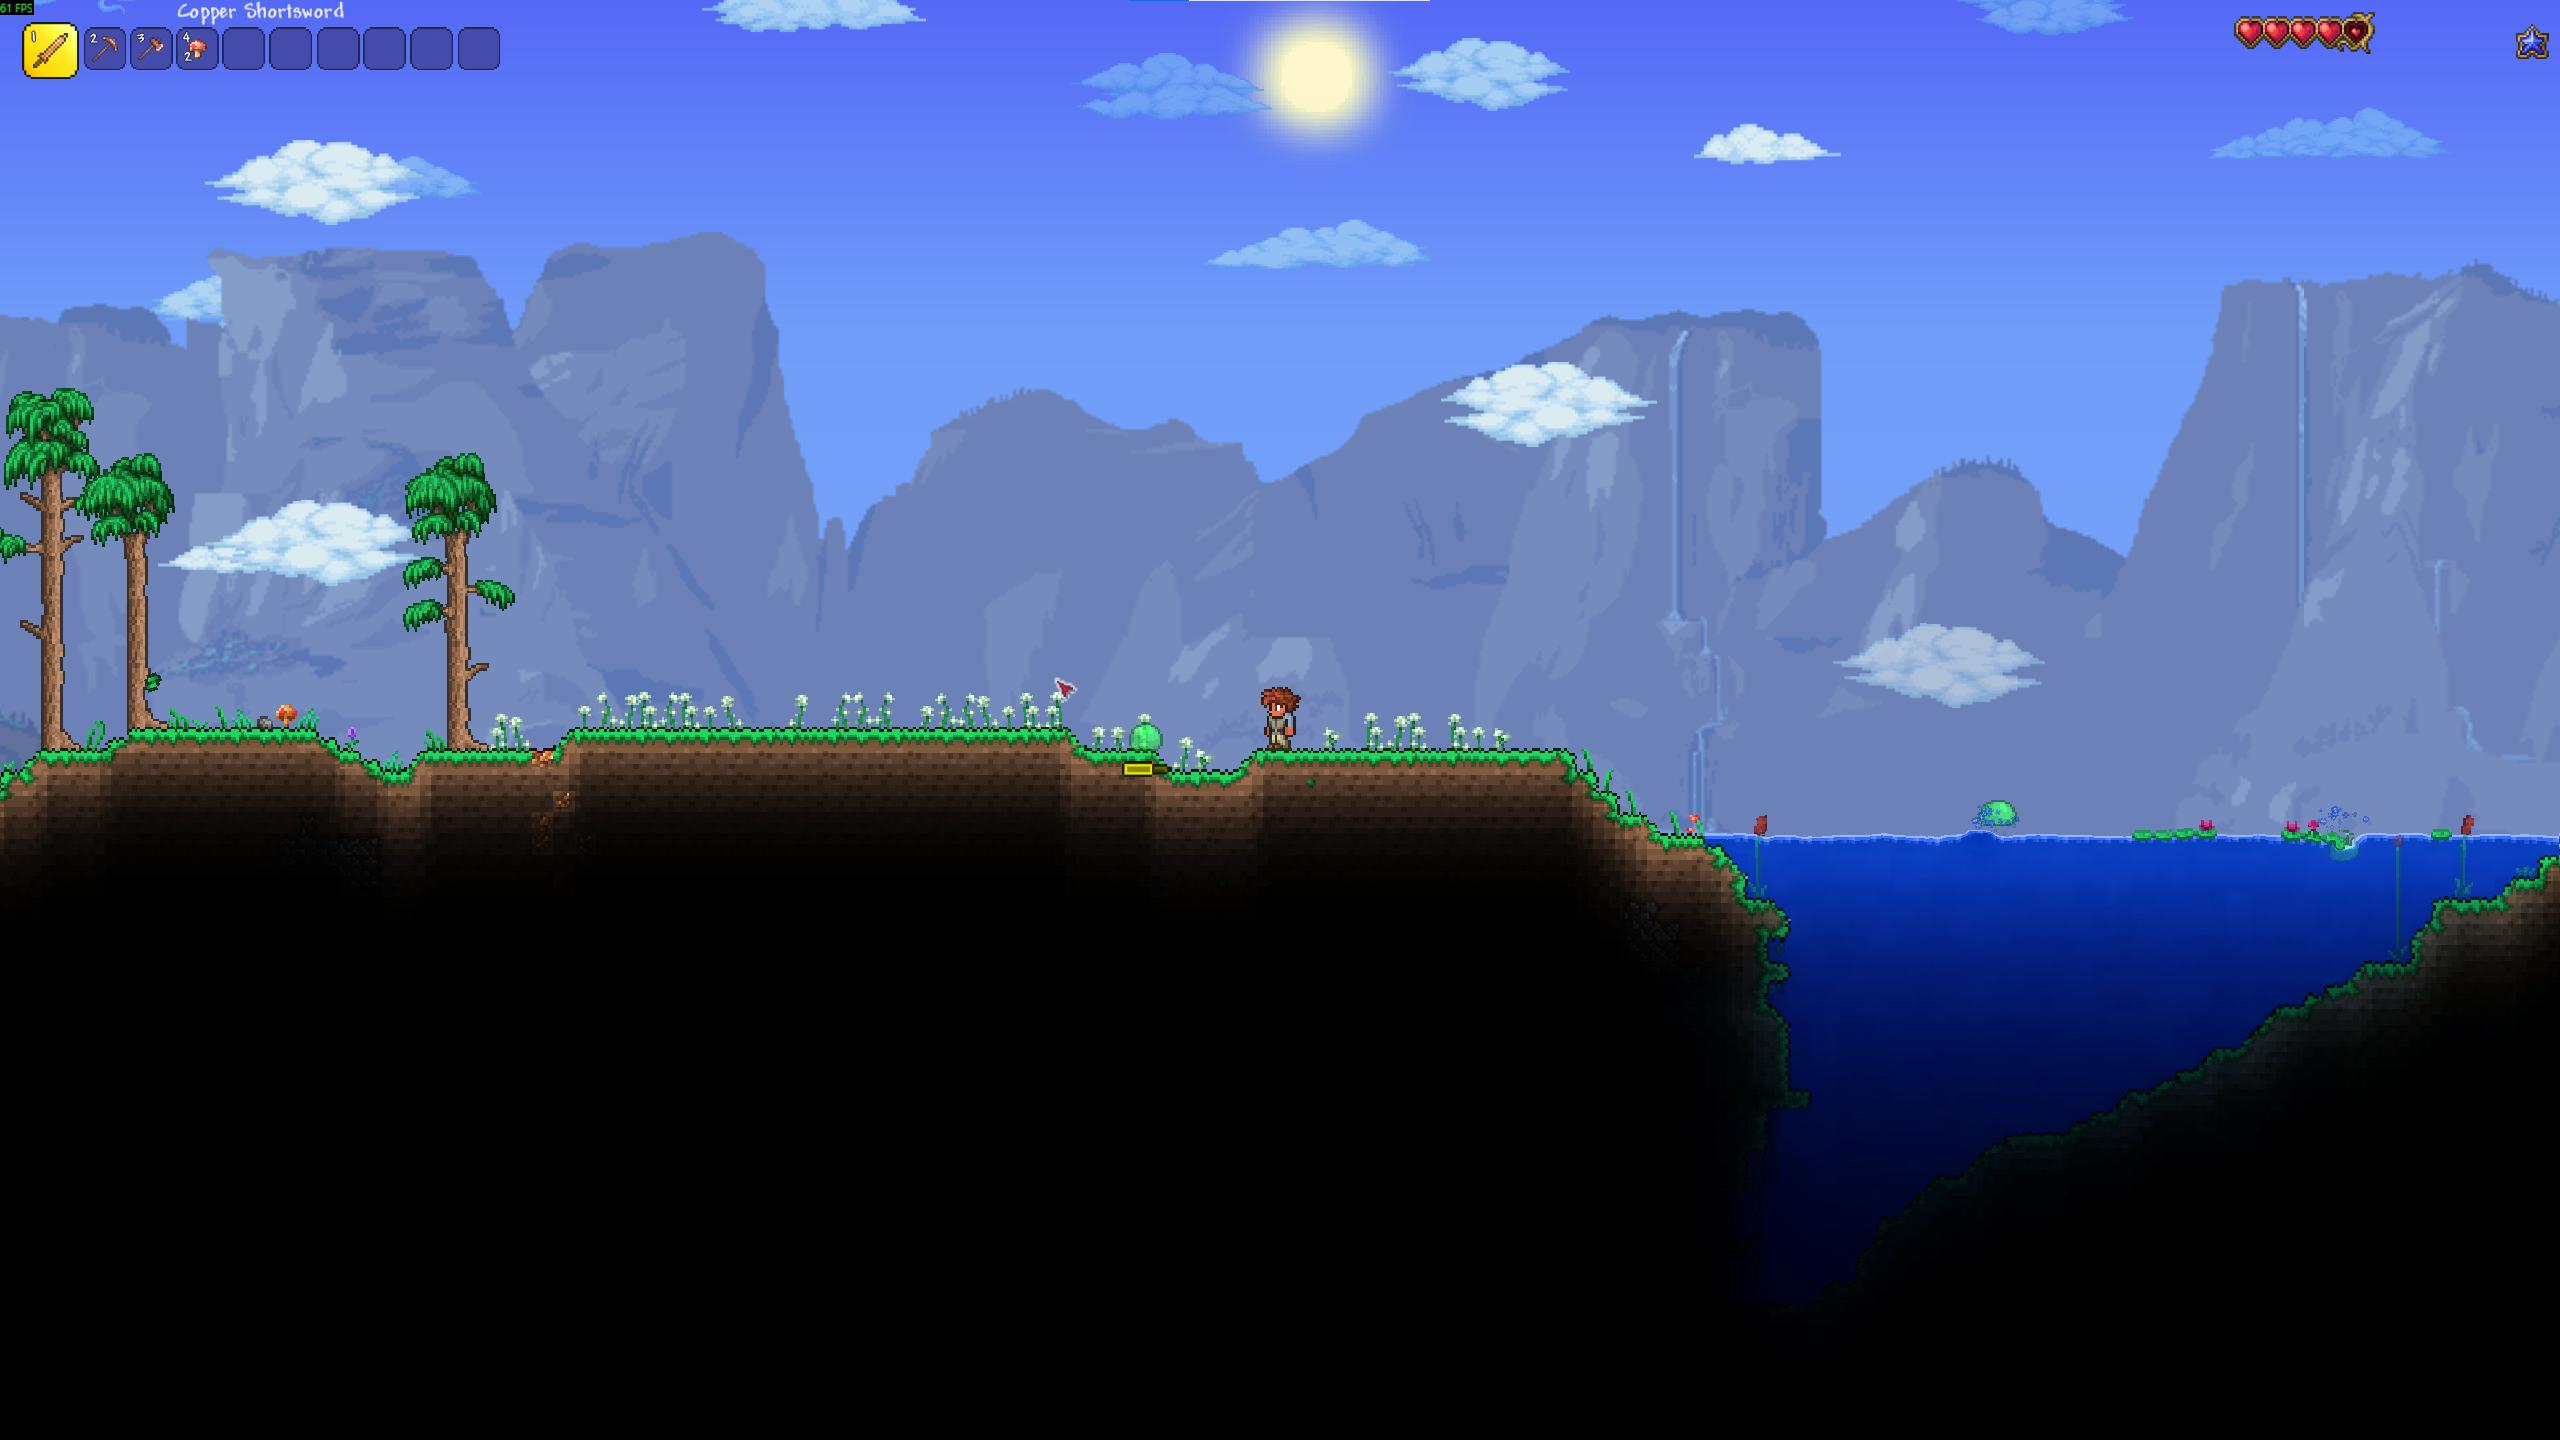Green Slime: (1973, 796, 2025, 832), (1124, 719, 1167, 756)
